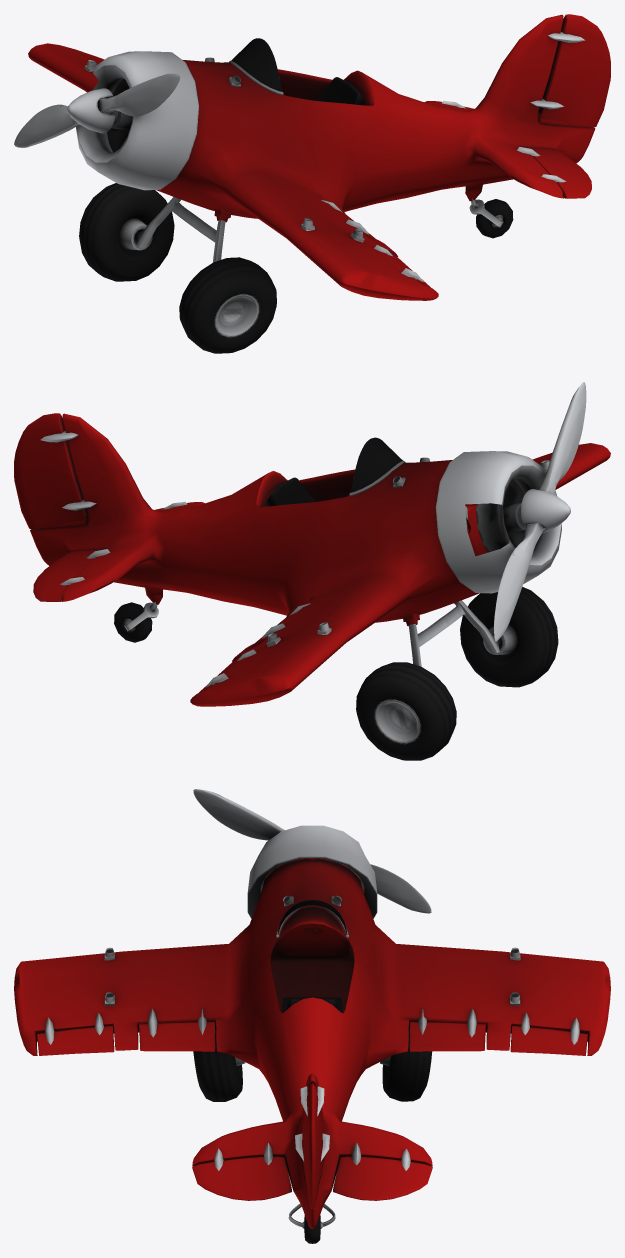
Rendered from Plane Toy 1.fbx.
3 renders of one model, top to bottom at view 1: azimuth 30°, elevation 25°; view 2: azimuth 150°, elevation 25°; view 3: azimuth 270°, elevation 25°, orthographic. The views are drawn at different scales.
Visible parts, largest first — view 1: Plane_Toy_1_Base, Plane_Toy_1_Left_Wheel, Plane_Toy_1_Right_Wheel, Flap_9, Plane_Toy_1_Fan, Flap_11, Plane_Toy_1_Back_Wheel; view 2: Plane_Toy_1_Base, Plane_Toy_1_Right_Wheel, Plane_Toy_1_Left_Wheel, Flap_9, Plane_Toy_1_Fan, Flap_10, Plane_Toy_1_Back_Wheel; view 3: Plane_Toy_1_Base, Flap_10, Flap_11, Plane_Toy_1_Fan, Plane_Toy_1_Right_Wheel, Plane_Toy_1_Left_Wheel, Flap_7, Flap_3, Flap_9, Flap_1, Flap_6.
Part boxes in pixels (bbox=[...]): Plane_Toy_1_Base: bbox=[28, 14, 595, 300]; Plane_Toy_1_Left_Wheel: bbox=[179, 257, 276, 353]; Plane_Toy_1_Right_Wheel: bbox=[79, 183, 174, 281]; Flap_9: bbox=[538, 14, 610, 127]; Plane_Toy_1_Fan: bbox=[14, 73, 180, 147]; Flap_11: bbox=[524, 147, 591, 198]; Plane_Toy_1_Back_Wheel: bbox=[476, 199, 513, 238]; Plane_Toy_1_Base: bbox=[30, 413, 610, 706]; Plane_Toy_1_Right_Wheel: bbox=[356, 662, 456, 760]; Plane_Toy_1_Left_Wheel: bbox=[460, 587, 558, 687]; Flap_9: bbox=[14, 413, 88, 528]; Plane_Toy_1_Fan: bbox=[494, 382, 586, 641]; Flap_10: bbox=[33, 549, 102, 601]; Plane_Toy_1_Back_Wheel: bbox=[114, 602, 152, 642]; Plane_Toy_1_Base: bbox=[14, 825, 610, 1228]; Flap_10: bbox=[333, 1156, 432, 1200]; Flap_11: bbox=[192, 1156, 291, 1200]; Plane_Toy_1_Fan: bbox=[193, 789, 431, 913]; Plane_Toy_1_Right_Wheel: bbox=[380, 1032, 432, 1101]; Plane_Toy_1_Left_Wheel: bbox=[193, 1032, 245, 1101]; Flap_7: bbox=[139, 1021, 215, 1051]; Flap_3: bbox=[409, 1021, 485, 1051]; Flap_9: bbox=[302, 1083, 322, 1208]; Flap_1: bbox=[510, 1025, 587, 1055]; Flap_6: bbox=[37, 1025, 114, 1055].
Bounding box in the file's own units: 22.28 × 11.76 × 22.62.
Materials: 1 (1 with a texture image).
